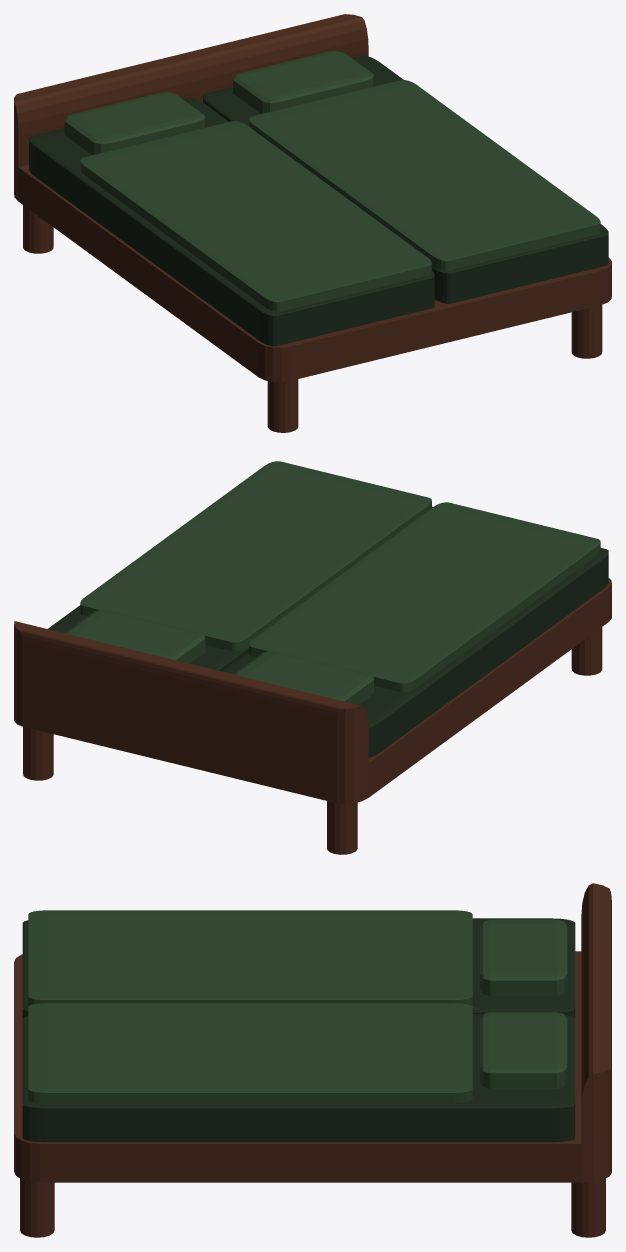
The model's file is Bedroom_Bed_big.fbx.
3 views of the same model, one above another, from view 1: azimuth 30°, elevation 25°; view 2: azimuth 150°, elevation 25°; view 3: azimuth 270°, elevation 25° (orthographic). The views are drawn at different scales.
Visible parts, largest first — view 1: Bedroom_Bed_big; view 2: Bedroom_Bed_big; view 3: Bedroom_Bed_big.
Boxes of the visible parts, x1,y1,x2,y2 form: Bedroom_Bed_big: (14,14,611,432); Bedroom_Bed_big: (14,461,611,854); Bedroom_Bed_big: (14,883,611,1237).
Bounding box in the file's own units: 160 × 65.16 × 210.
